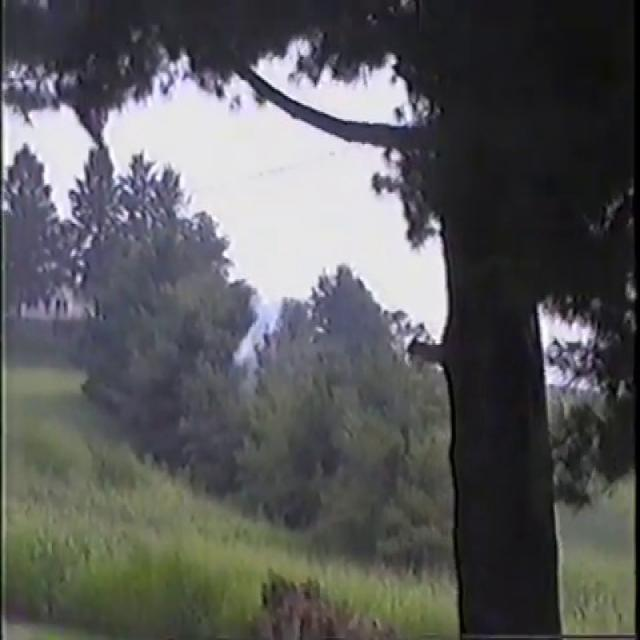Smoke: (229, 266, 287, 374)
